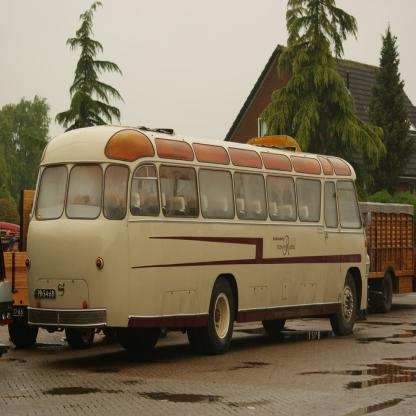Bus: (25, 124, 370, 355)
